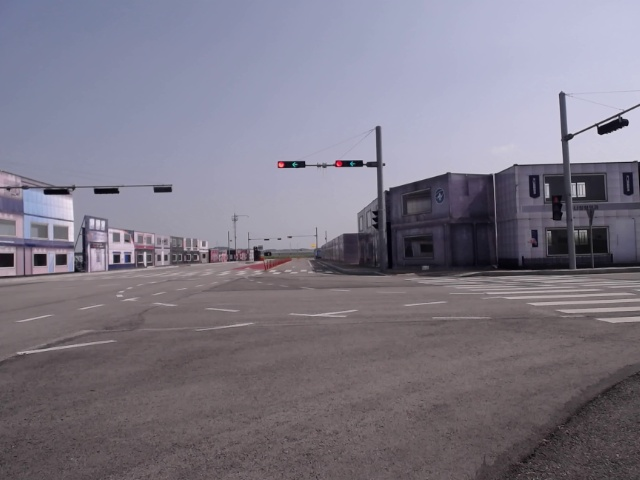left_green_4: (336, 160, 363, 168), (278, 161, 305, 168)
